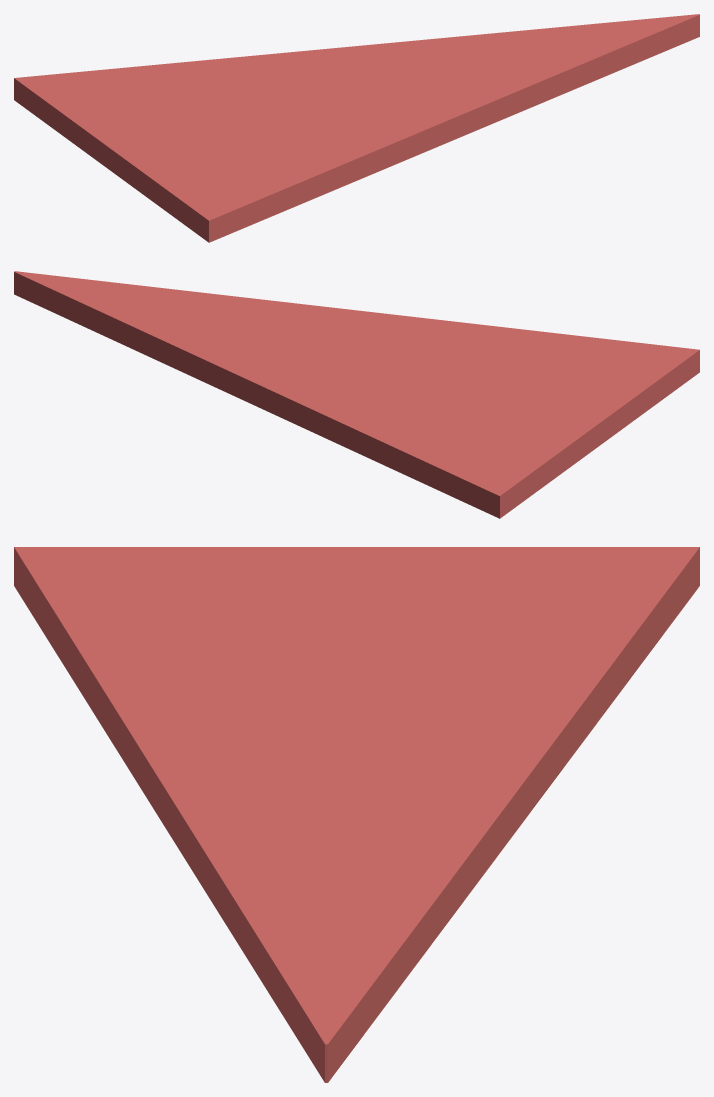
The model's file is flag.fbx.
3 renders of one model, top to bottom at view 1: azimuth 30°, elevation 25°; view 2: azimuth 150°, elevation 25°; view 3: azimuth 270°, elevation 25°, orthographic. The views are drawn at different scales.
Visible parts, largest first — view 1: pCube1; view 2: pCube1; view 3: pCube1.
Boxes of the visible parts, x1=… form: pCube1: x1=14, y1=14, x2=699, y2=242; pCube1: x1=14, y1=271, x2=699, y2=518; pCube1: x1=14, y1=547, x2=699, y2=1082.
Size of the model in its own units: 21.14 by 0.7696 by 12.33.
Materials: 1 (1 with a texture image).
